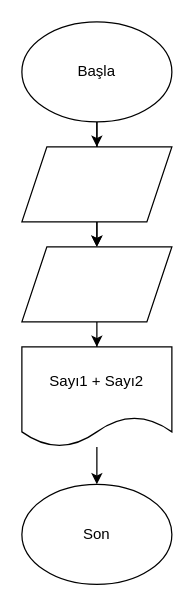
This 194x606 diagram has some shape labels left out. The shapes that lost their labels are listed below. From the top down, each one's box as (x1, y1, x2, y2) in pixels, then its label:
(21, 146, 172, 222): Sayı1
(21, 246, 172, 322): Sayı2
